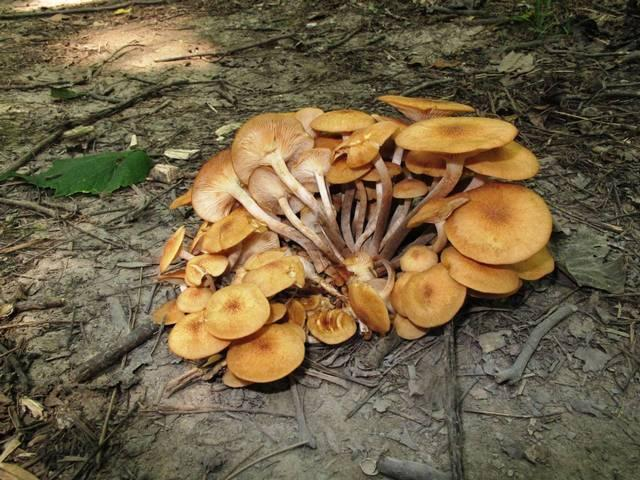Edible Mushroom: (153, 93, 555, 387)
